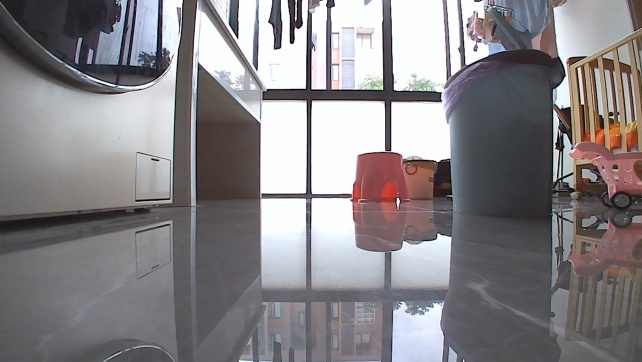washing_machine1: (0, 0, 184, 224)
